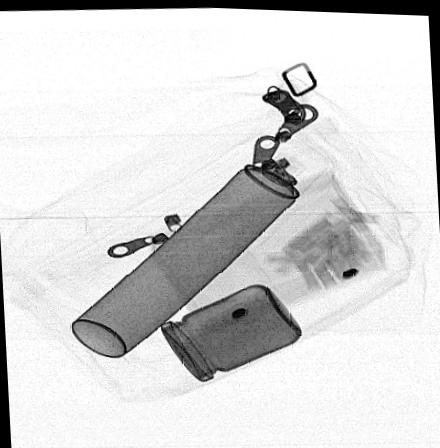Sprayer: (73, 133, 330, 357)
